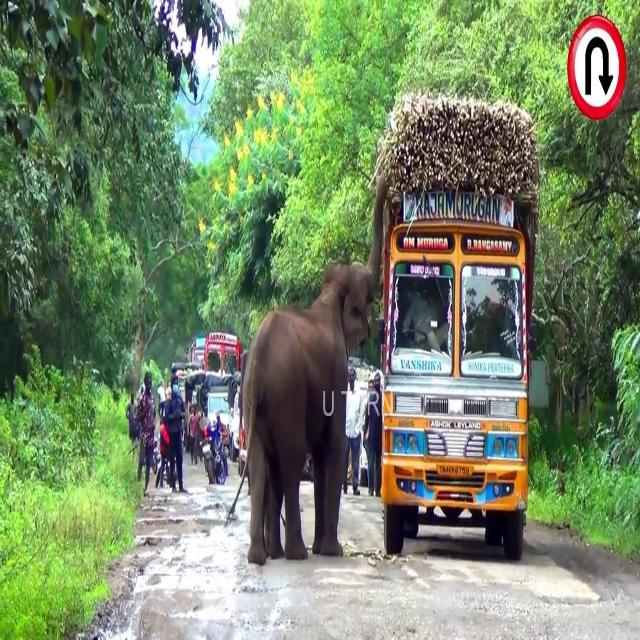Elephant: (227, 174, 389, 566)
